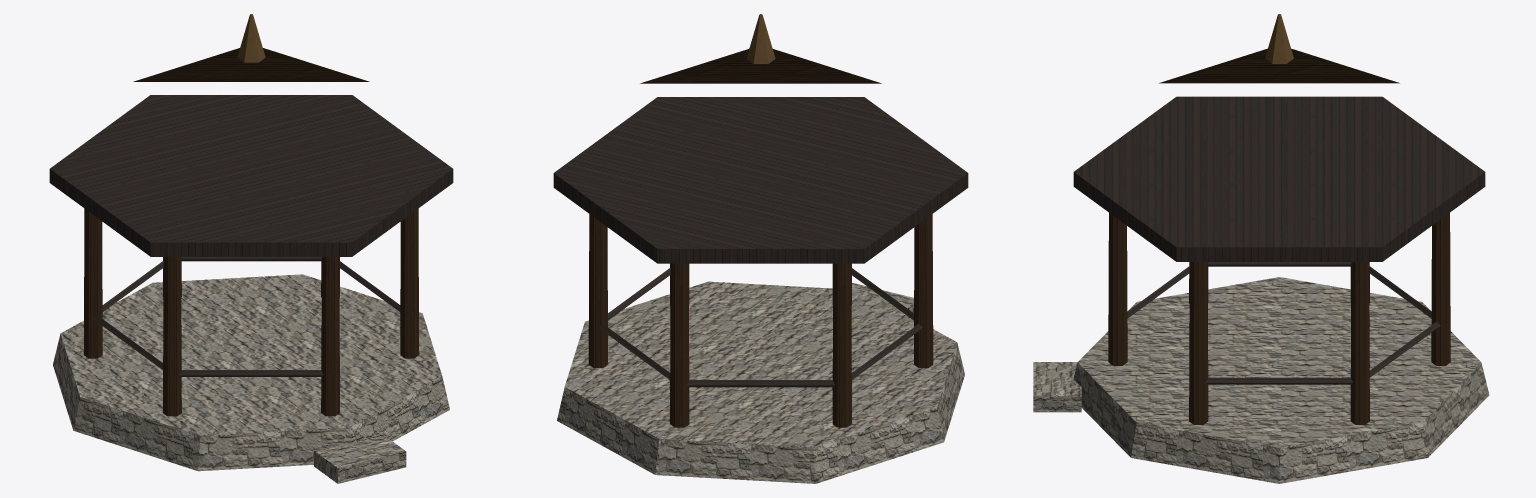
Rendered from pavilion_01.glb.
The picture shows the model from 3 angles, left to right: view 1: azimuth 30°, elevation 25°; view 2: azimuth 150°, elevation 25°; view 3: azimuth 270°, elevation 25°; orthographic projection. The views are drawn at different scales.
Parts seen in each view (by area): view 1: pavilion_01; view 2: pavilion_01; view 3: pavilion_01.
Boxes of the visible parts, <box> form: pavilion_01: <box>49,14,453,483</box>; pavilion_01: <box>553,14,968,483</box>; pavilion_01: <box>1033,14,1489,483</box>.
Bounding box in the file's own units: 5.2 × 5.2 × 6.05.
Materials: 5 (5 with a texture image).
